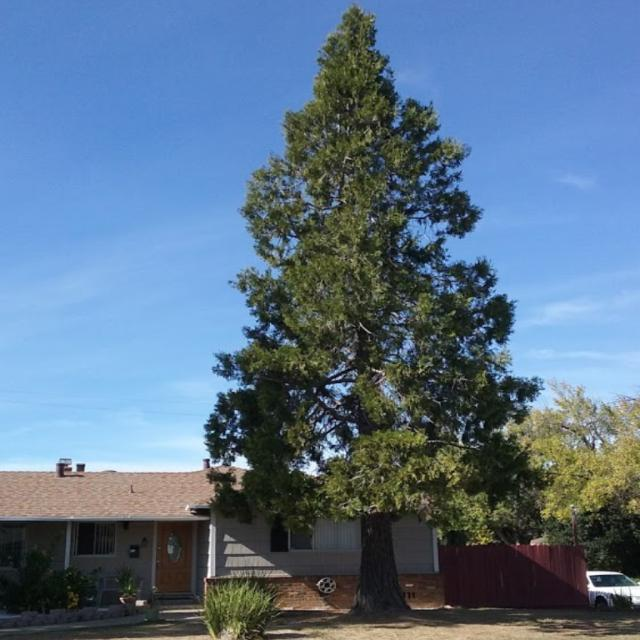Calocedrus decurrens: (206, 6, 560, 616)
